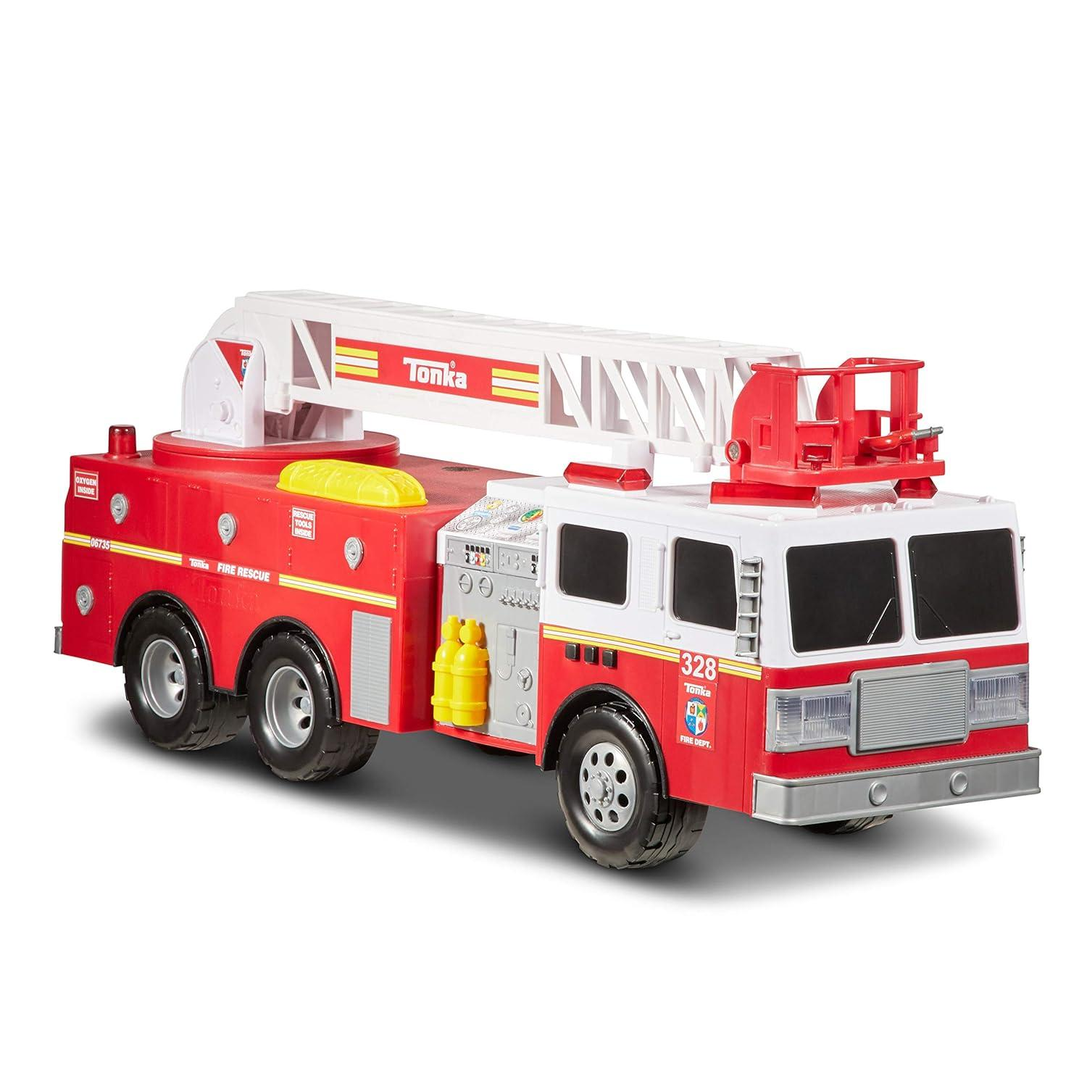Fire-engine: (51, 286, 1042, 872)
